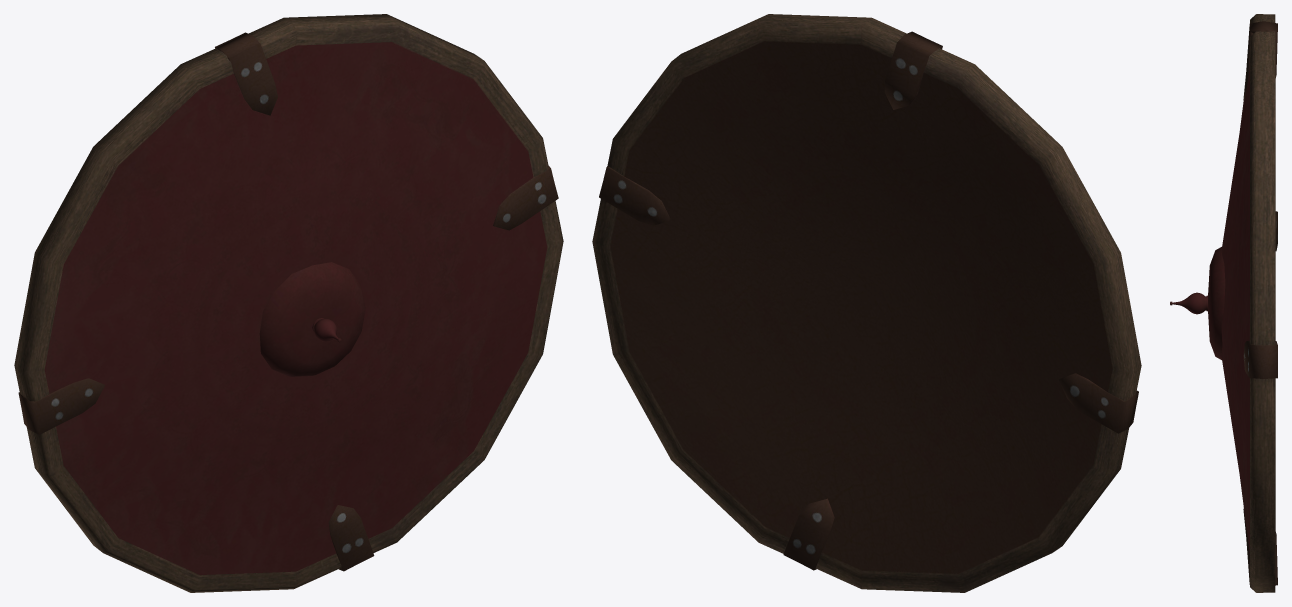
The model's file is low_poly_shield.glb.
The picture shows the model from 3 angles, left to right: view 1: azimuth 30°, elevation 25°; view 2: azimuth 150°, elevation 25°; view 3: azimuth 270°, elevation 25°; orthographic projection. The views are drawn at different scales.
Visible parts, largest first — view 1: pCylinder1, pCylinder2, pCube6, pCube5, pCube7, pCube4; view 2: pCylinder1, pCube6, pCube5, pCube4, pCube7; view 3: pCylinder1, pCylinder2, pCube7, pCube6, pCylinder3, pCube4.
Part boxes in pixels (x1=…): pCylinder1: x1=14, y1=14, x2=563, y2=592; pCylinder2: x1=259, y1=262, x2=365, y2=376; pCube6: x1=215, y1=32, x2=277, y2=115; pCube5: x1=18, y1=378, x2=104, y2=434; pCube7: x1=493, y1=165, x2=558, y2=230; pCube4: x1=328, y1=505, x2=374, y2=571; pCylinder1: x1=592, y1=14, x2=1141, y2=592; pCube6: x1=884, y1=31, x2=942, y2=109; pCube5: x1=1058, y1=373, x2=1138, y2=433; pCube4: x1=783, y1=498, x2=834, y2=570; pCube7: x1=599, y1=166, x2=670, y2=225; pCylinder1: x1=1221, y1=14, x2=1275, y2=592; pCylinder2: x1=1208, y1=247, x2=1225, y2=359; pCube7: x1=1243, y1=340, x2=1277, y2=378; pCube6: x1=1243, y1=21, x2=1277, y2=100; pCylinder3: x1=1170, y1=292, x2=1207, y2=314; pCube4: x1=1243, y1=508, x2=1277, y2=585.
Bounding box in the file's own units: 0.0803 × 0.0803 × 0.0149.
1 material, 1 textured.
